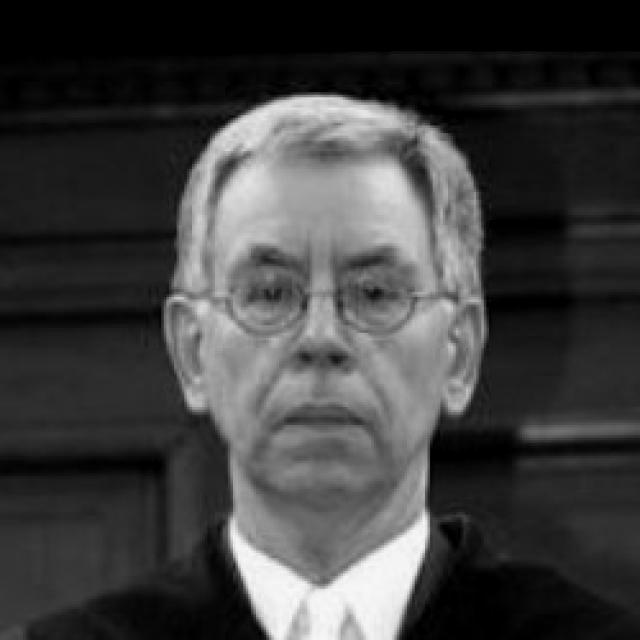real: (208, 154, 448, 500), (234, 264, 415, 327)
